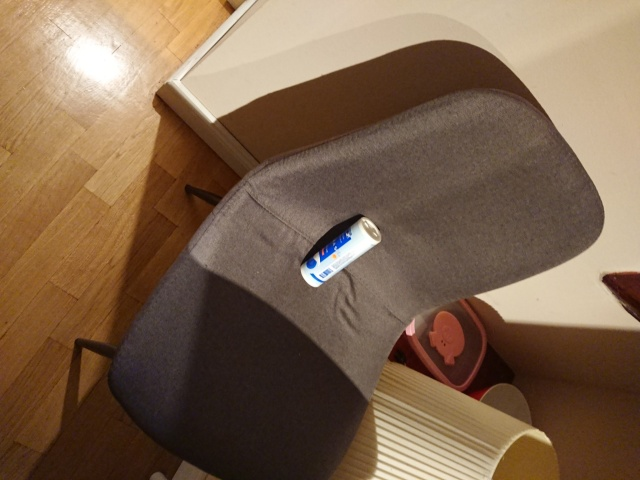Solana Pag Fine Sea Salt 250g: (296, 212, 385, 292)
